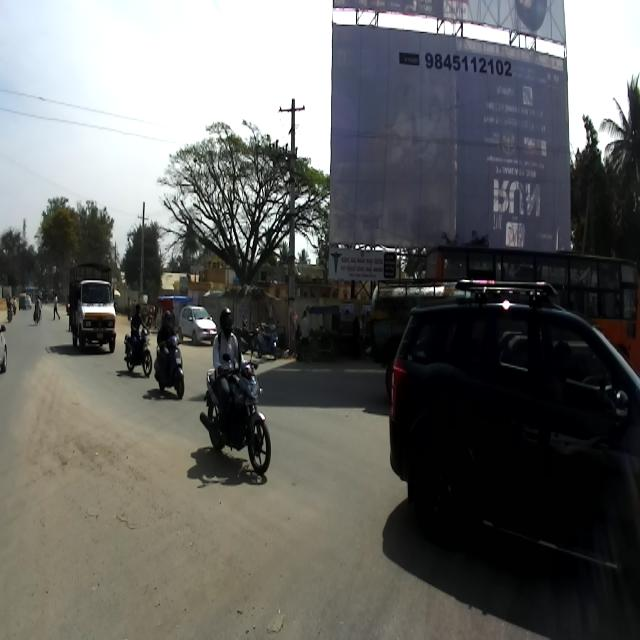car ahead at: (389, 296, 640, 577)
motorcycle ahead at: (199, 348, 273, 477)
